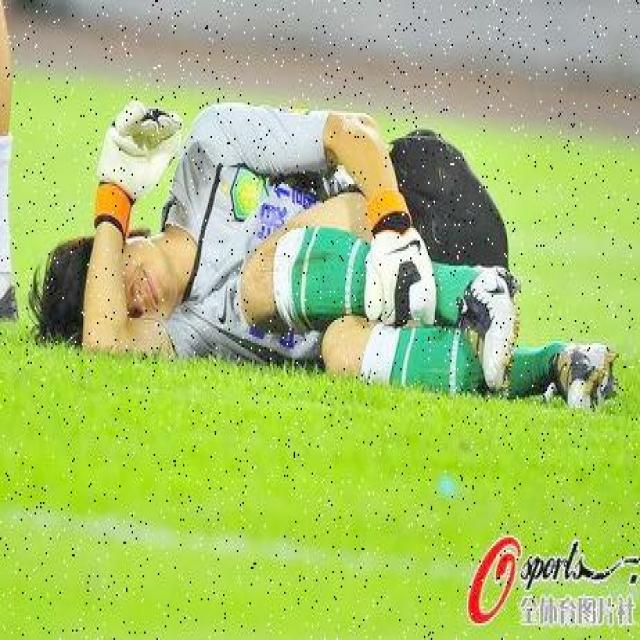fall: (51, 92, 579, 400)
